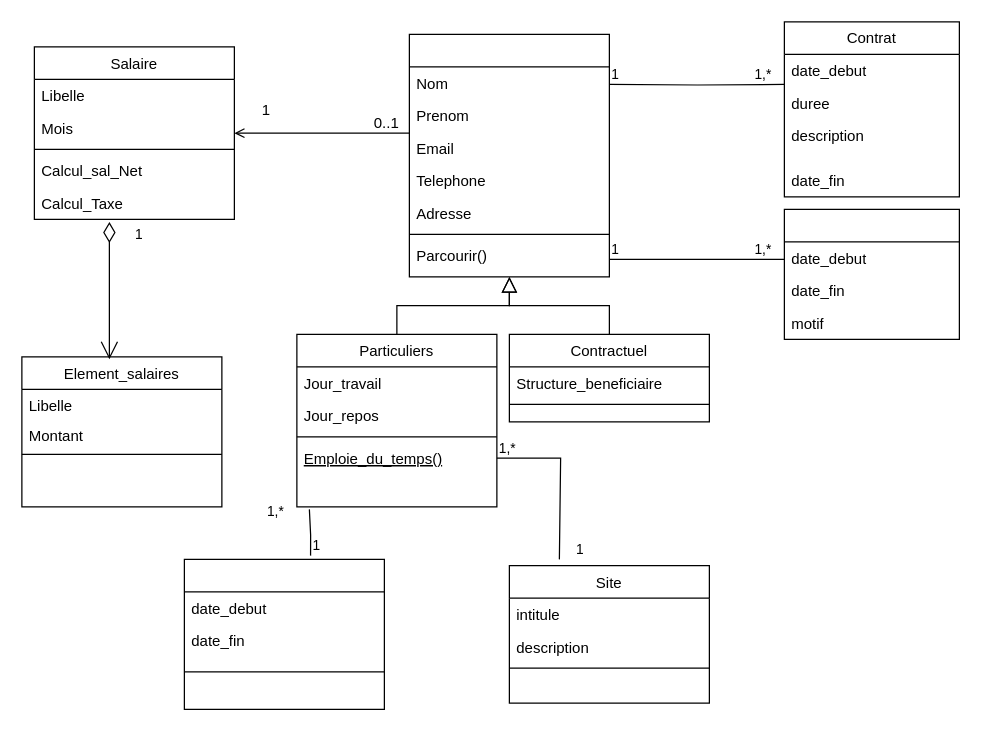
The diagram is 981 pixels wide and 731 high, and some of its shapes have lost their labels. The box of each missing label's shape, as (x1, y1, x2, y2) in pixels:
Abscence: (783, 208, 959, 339)
Employe: (408, 33, 609, 277)
Rotation: (183, 558, 384, 709)
